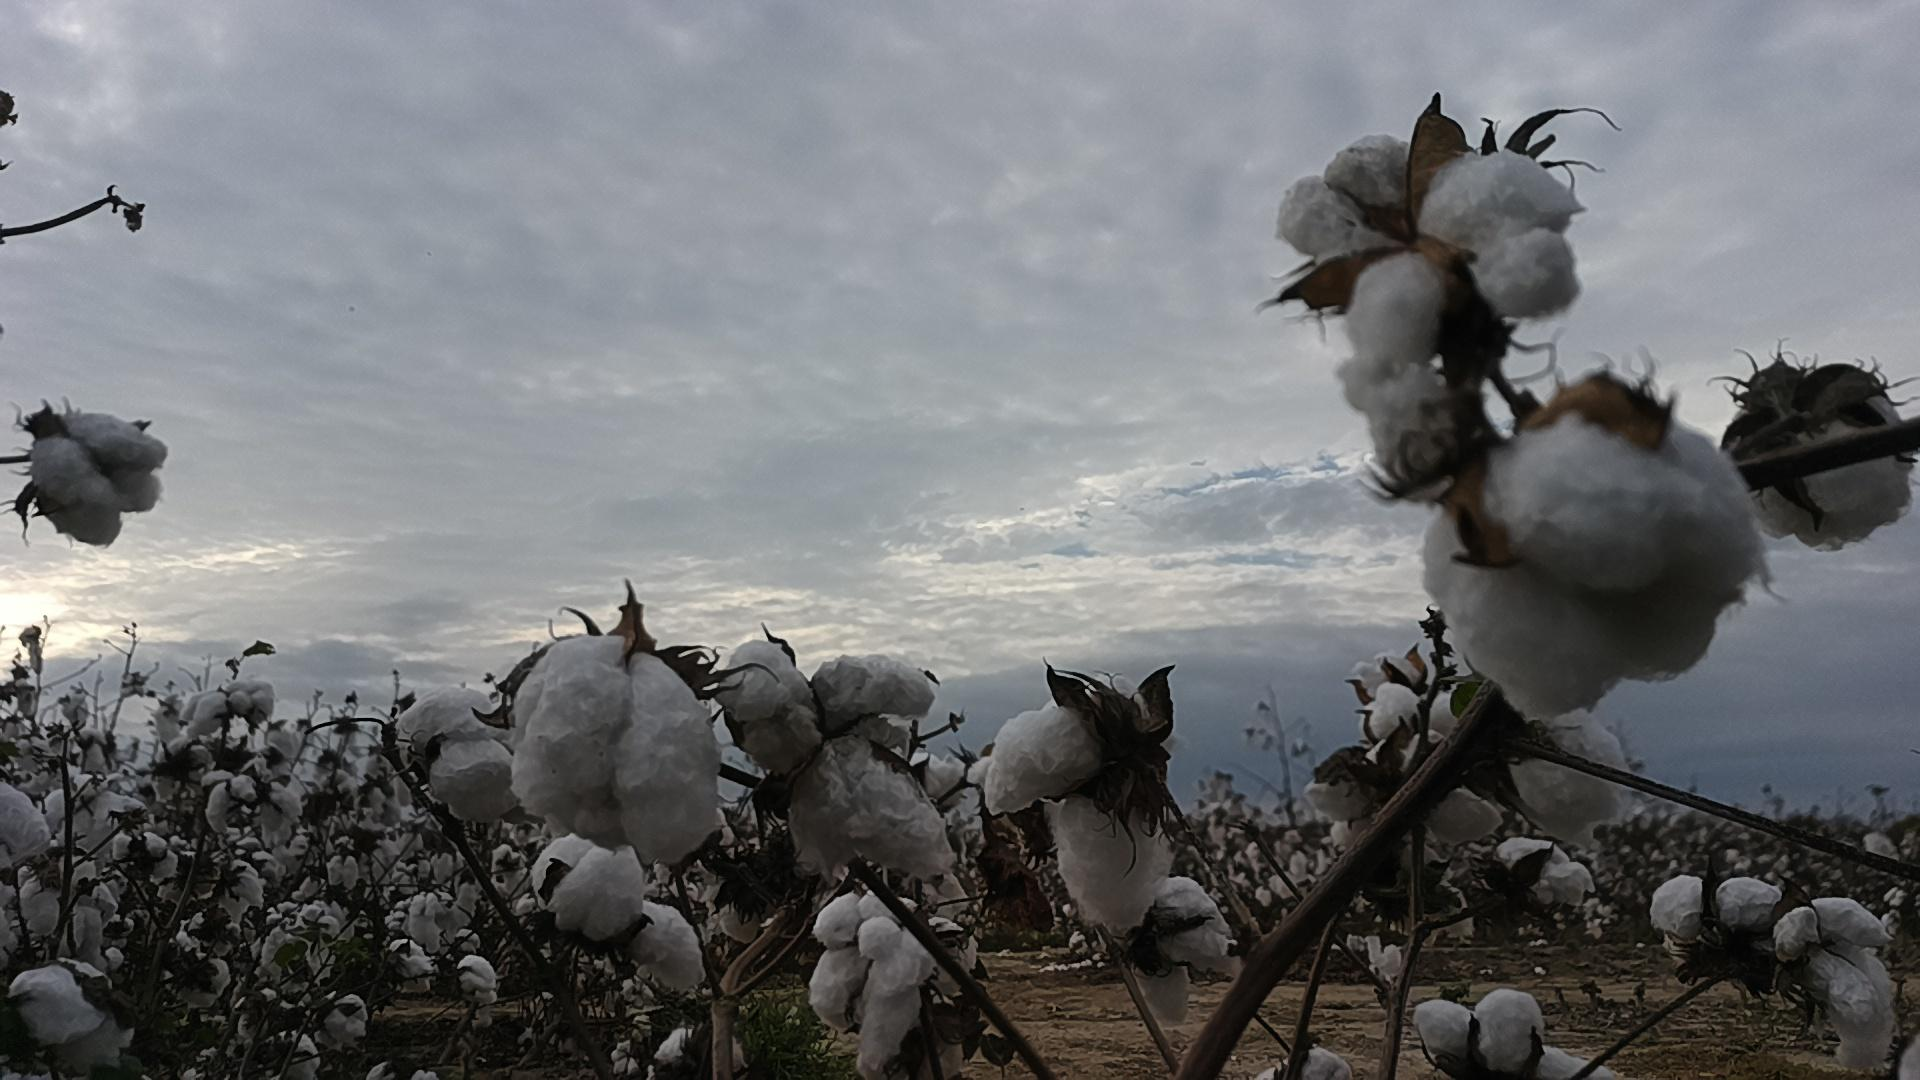cotton_ready: (1425, 409, 1778, 723), (1275, 128, 1582, 357), (724, 636, 956, 886), (976, 666, 1175, 927), (502, 638, 723, 865), (1726, 365, 1913, 551), (806, 893, 968, 1076), (535, 835, 709, 1001), (1303, 731, 1507, 861), (1771, 895, 1902, 1071), (26, 409, 167, 546), (388, 686, 514, 829), (1127, 878, 1238, 1033), (1507, 715, 1633, 843), (11, 957, 138, 1073), (1338, 356, 1452, 473), (1648, 876, 1780, 967), (1410, 988, 1545, 1068), (1350, 649, 1428, 748), (1506, 843, 1598, 915)
